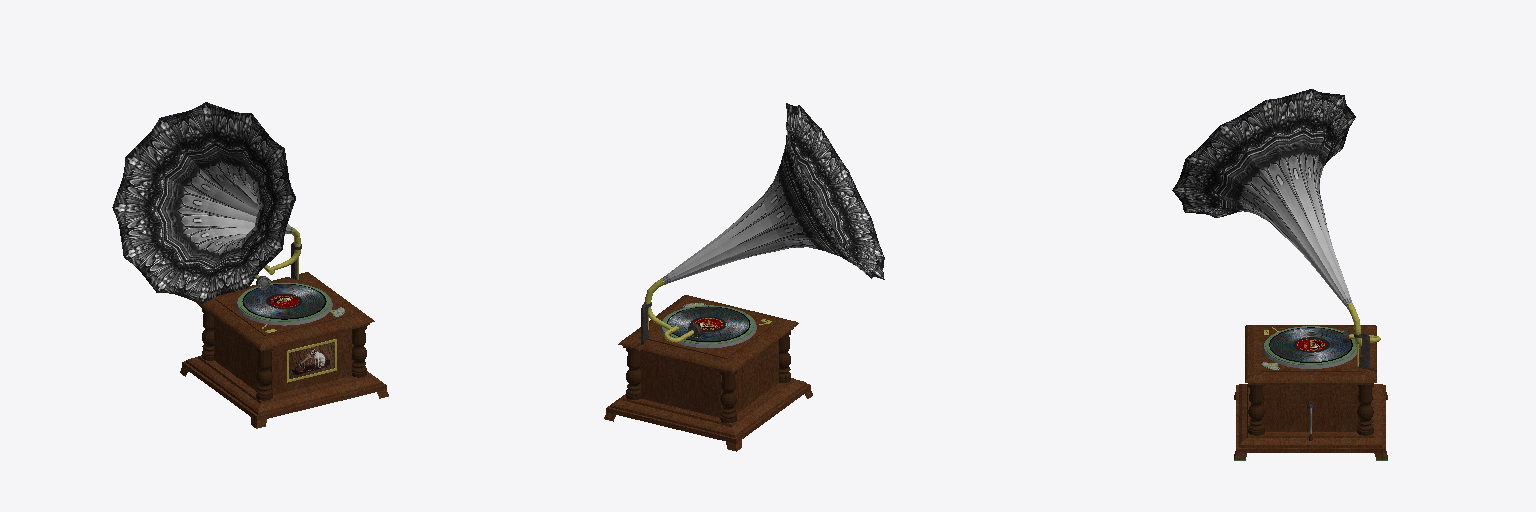
3 views of the same model, side by side, from view 1: azimuth 30°, elevation 25°; view 2: azimuth 150°, elevation 25°; view 3: azimuth 270°, elevation 25° (orthographic).
Visible parts, largest first — view 1: Mesh17_Group12_Group8_Model, Mesh28_Componente_1_4_Group21_Group18_Group17_Group8_Model, Mesh27_Componente_1_3_Group21_Group18_Group17_Group8_Model, Mesh29_Componente_1_5_Group21_Group18_Group17_Group8_Model, Mesh26_Componente_1_2_Group21_Group18_Group17_Group8_Model, Mesh30_Componente_1_6_Group21_Group18_Group17_Group8_Model, Mesh10_Group10_Group8_Model, Mesh25_Componente_1_1_Group21_Group18_Group17_Group8_Model, Mesh31_Componente_1_7_Group21_Group18_Group17_Group8_Model, Mesh36_Componente_1_12_Group21_Group18_Group17_Group8_Model, Mesh32_Componente_1_8_Group21_Group18_Group17_Group8_Model, Mesh35_Componente_1_11_Group21_Group18_Group17_Group8_Model (+6 smaller); view 2: Mesh17_Group12_Group8_Model, Mesh27_Componente_1_3_Group21_Group18_Group17_Group8_Model, Mesh28_Componente_1_4_Group21_Group18_Group17_Group8_Model, Mesh10_Group10_Group8_Model, Mesh26_Componente_1_2_Group21_Group18_Group17_Group8_Model, Mesh33_Componente_1_9_Group21_Group18_Group17_Group8_Model, Mesh34_Componente_1_10_Group21_Group18_Group17_Group8_Model, Mesh29_Componente_1_5_Group21_Group18_Group17_Group8_Model, Mesh32_Componente_1_8_Group21_Group18_Group17_Group8_Model, Mesh35_Componente_1_11_Group21_Group18_Group17_Group8_Model, Mesh11_Group11_Group8_Model, Mesh15_Componente_3_3_Group12_Group8_Model (+4 smaller); view 3: Mesh17_Group12_Group8_Model, Mesh36_Componente_1_12_Group21_Group18_Group17_Group8_Model, Mesh35_Componente_1_11_Group21_Group18_Group17_Group8_Model, Mesh25_Componente_1_1_Group21_Group18_Group17_Group8_Model, Mesh34_Componente_1_10_Group21_Group18_Group17_Group8_Model, Mesh26_Componente_1_2_Group21_Group18_Group17_Group8_Model, Mesh10_Group10_Group8_Model, Mesh33_Componente_1_9_Group21_Group18_Group17_Group8_Model, Mesh27_Componente_1_3_Group21_Group18_Group17_Group8_Model, Mesh11_Group11_Group8_Model, Mesh13_Componente_3_1_Group12_Group8_Model, Mesh14_Componente_3_2_Group12_Group8_Model.
Part boxes in pixels (left/top/right/bottom): Mesh17_Group12_Group8_Model: left=180, top=272, right=388, bottom=428; Mesh28_Componente_1_4_Group21_Group18_Group17_Group8_Model: left=112, top=157, right=256, bottom=222; Mesh27_Componente_1_3_Group21_Group18_Group17_Group8_Model: left=126, top=118, right=258, bottom=216; Mesh29_Componente_1_5_Group21_Group18_Group17_Group8_Model: left=113, top=208, right=254, bottom=256; Mesh26_Componente_1_2_Group21_Group18_Group17_Group8_Model: left=160, top=102, right=258, bottom=210; Mesh30_Componente_1_6_Group21_Group18_Group17_Group8_Model: left=124, top=228, right=251, bottom=292; Mesh10_Group10_Group8_Model: left=242, top=284, right=326, bottom=319; Mesh25_Componente_1_1_Group21_Group18_Group17_Group8_Model: left=206, top=102, right=256, bottom=202; Mesh31_Componente_1_7_Group21_Group18_Group17_Group8_Model: left=157, top=234, right=246, bottom=303; Mesh36_Componente_1_12_Group21_Group18_Group17_Group8_Model: left=243, top=114, right=289, bottom=225; Mesh32_Componente_1_8_Group21_Group18_Group17_Group8_Model: left=203, top=233, right=289, bottom=302; Mesh35_Componente_1_11_Group21_Group18_Group17_Group8_Model: left=256, top=149, right=295, bottom=228; Mesh17_Group12_Group8_Model: left=604, top=295, right=812, bottom=451; Mesh27_Componente_1_3_Group21_Group18_Group17_Group8_Model: left=663, top=165, right=821, bottom=281; Mesh28_Componente_1_4_Group21_Group18_Group17_Group8_Model: left=664, top=212, right=848, bottom=282; Mesh10_Group10_Group8_Model: left=667, top=306, right=750, bottom=341; Mesh26_Componente_1_2_Group21_Group18_Group17_Group8_Model: left=663, top=126, right=798, bottom=279; Mesh33_Componente_1_9_Group21_Group18_Group17_Group8_Model: left=815, top=171, right=870, bottom=218; Mesh34_Componente_1_10_Group21_Group18_Group17_Group8_Model: left=803, top=130, right=848, bottom=194; Mesh29_Componente_1_5_Group21_Group18_Group17_Group8_Model: left=665, top=238, right=870, bottom=283; Mesh32_Componente_1_8_Group21_Group18_Group17_Group8_Model: left=827, top=217, right=883, bottom=256; Mesh35_Componente_1_11_Group21_Group18_Group17_Group8_Model: left=794, top=106, right=821, bottom=170; Mesh11_Group11_Group8_Model: left=660, top=305, right=756, bottom=347; Mesh15_Componente_3_3_Group12_Group8_Model: left=720, top=371, right=736, bottom=422; Mesh17_Group12_Group8_Model: left=1234, top=325, right=1387, bottom=460; Mesh36_Componente_1_12_Group21_Group18_Group17_Group8_Model: left=1220, top=100, right=1349, bottom=304; Mesh35_Componente_1_11_Group21_Group18_Group17_Group8_Model: left=1186, top=126, right=1347, bottom=305; Mesh25_Componente_1_1_Group21_Group18_Group17_Group8_Model: left=1266, top=89, right=1351, bottom=303; Mesh34_Componente_1_10_Group21_Group18_Group17_Group8_Model: left=1173, top=159, right=1346, bottom=306; Mesh26_Componente_1_2_Group21_Group18_Group17_Group8_Model: left=1303, top=89, right=1352, bottom=303; Mesh10_Group10_Group8_Model: left=1269, top=327, right=1352, bottom=362; Mesh33_Componente_1_9_Group21_Group18_Group17_Group8_Model: left=1172, top=190, right=1343, bottom=303; Mesh27_Componente_1_3_Group21_Group18_Group17_Group8_Model: left=1316, top=96, right=1355, bottom=291; Mesh11_Group11_Group8_Model: left=1262, top=326, right=1359, bottom=368; Mesh13_Componente_3_1_Group12_Group8_Model: left=1248, top=385, right=1264, bottom=435; Mesh14_Componente_3_2_Group12_Group8_Model: left=1357, top=385, right=1373, bottom=435.
Bounding box in the file's own units: 0.978 × 1.19 × 0.7737.
Materials: 14 (10 with a texture image).